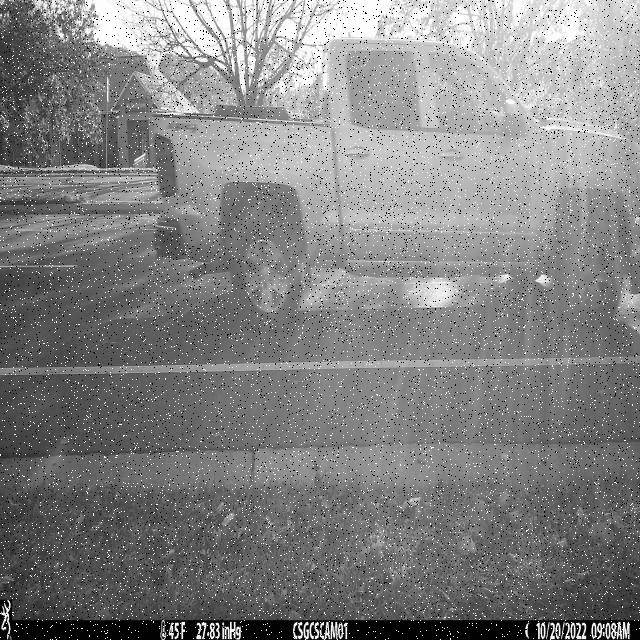Pickup: (150, 38, 640, 333)
